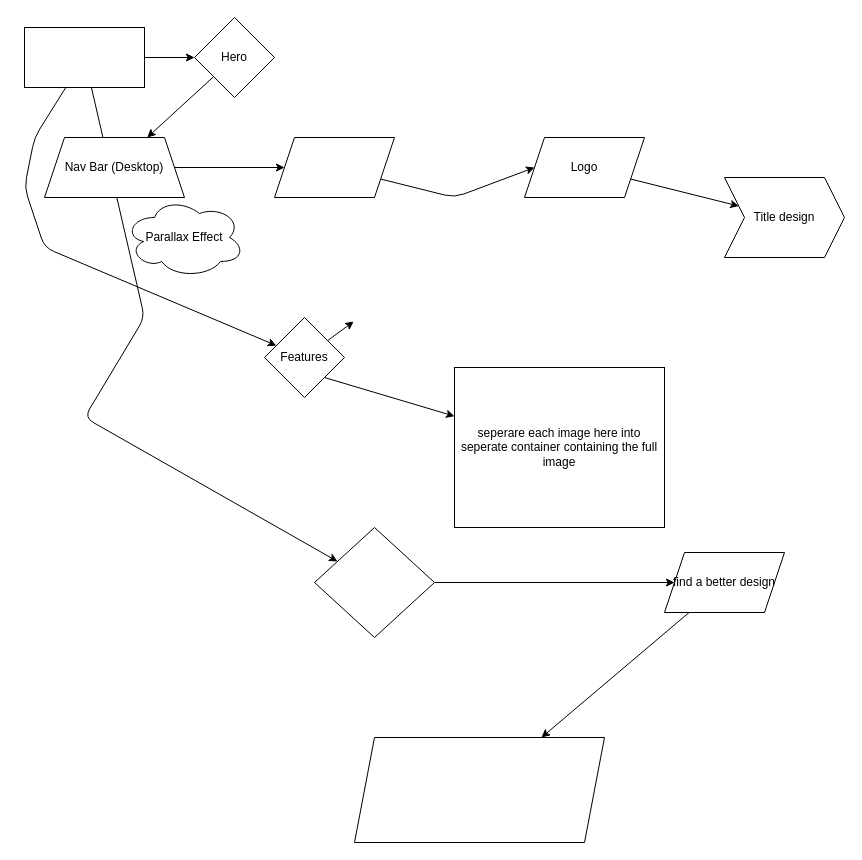
The diagram is 862 pixels wide and 860 high, and some of its shapes have lost their labels. The centre of each missing label's shape, as x and y in pixels:
"Contact" goes at (374,582).
"Loading animation" goes at (479,789).
"Problems" goes at (84,57).
"Video Background" goes at (334,167).
